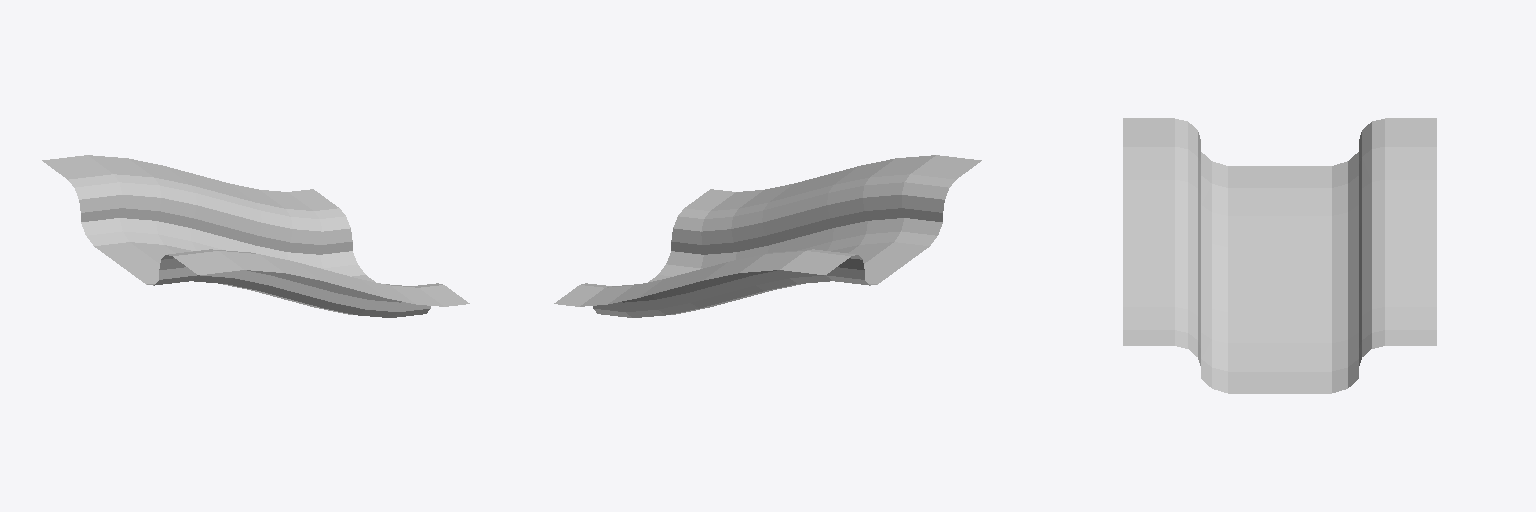
File: Track_Standard_Incline_Single.obj
3 views of the same model, side by side, from view 1: azimuth 30°, elevation 25°; view 2: azimuth 150°, elevation 25°; view 3: azimuth 270°, elevation 25° (orthographic).
Parts seen in each view (by area): view 1: Grass, Dirt; view 2: Grass, Dirt; view 3: Dirt, Grass.
Boxes of the visible parts, <box> form: Grass: <box>42,155,469,311</box>; Dirt: <box>81,218,429,317</box>; Grass: <box>554,155,981,311</box>; Dirt: <box>594,218,942,317</box>; Dirt: <box>1201,152,1358,393</box>; Grass: <box>1123,118,1436,365</box>.
Size of the model in its own units: 3 by 1.5 by 3.